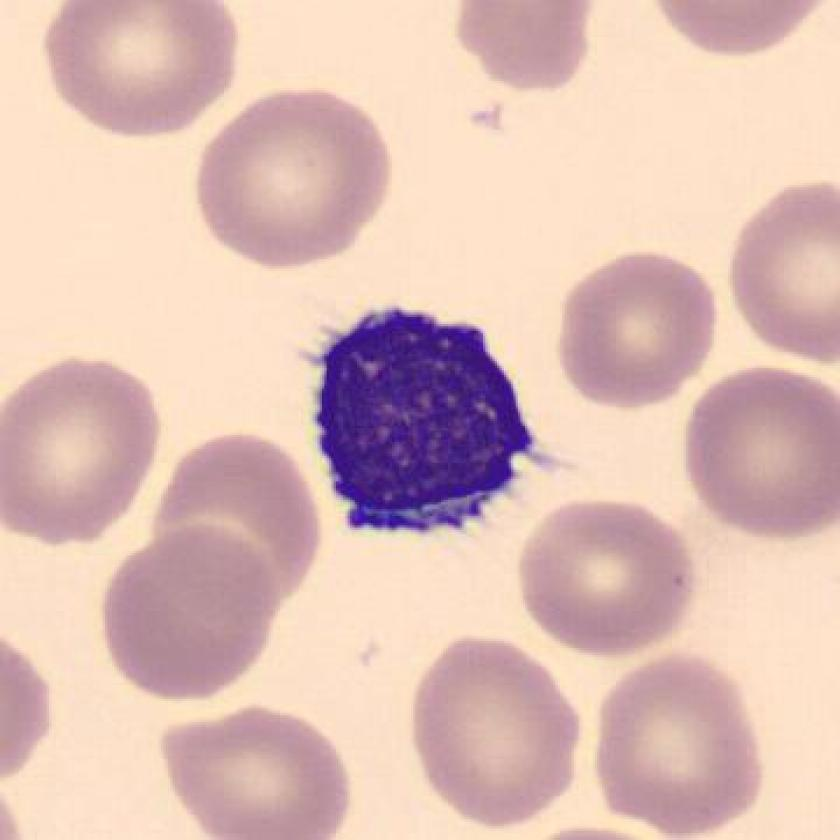lymphocyte: (283, 286, 559, 554)
